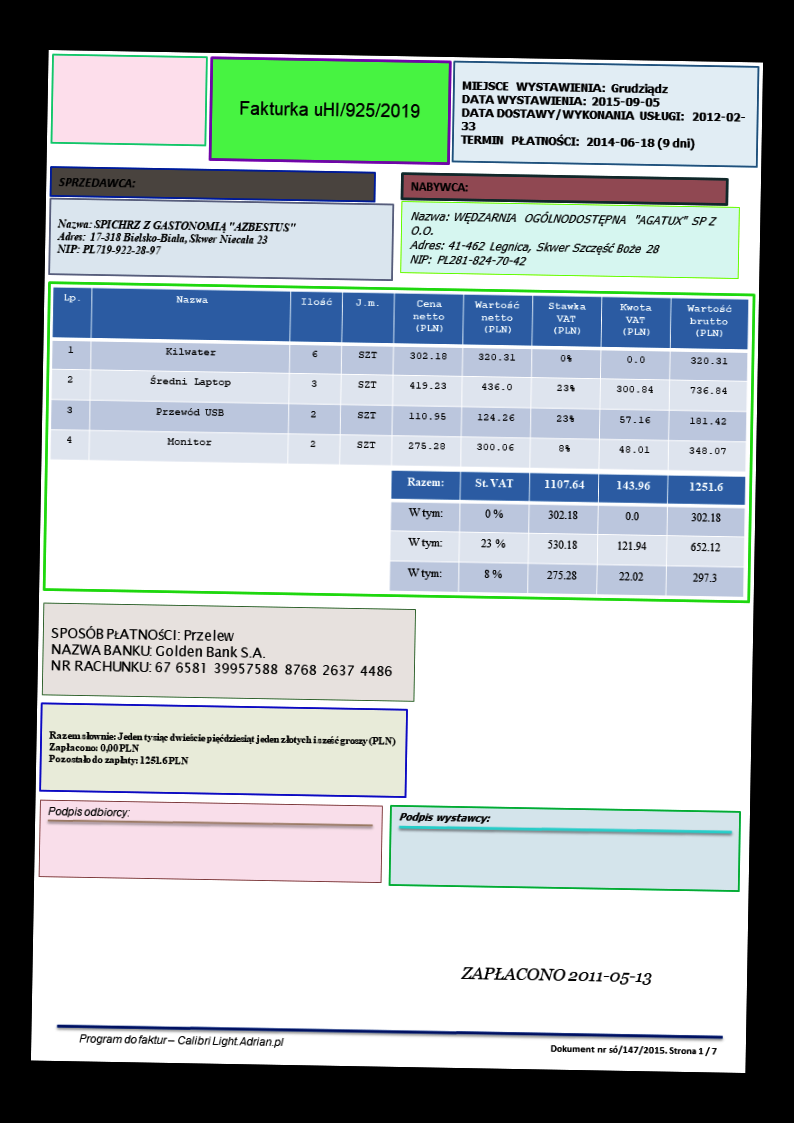Table: (49, 285, 749, 474), (388, 469, 747, 600)
TextBox: (458, 77, 749, 153), (407, 207, 720, 273), (48, 623, 395, 682), (46, 727, 398, 771), (55, 215, 299, 260), (459, 962, 653, 989), (236, 97, 423, 122), (77, 1029, 286, 1051), (549, 1041, 718, 1059), (397, 808, 492, 828), (45, 802, 131, 821), (55, 173, 138, 191), (408, 178, 469, 196)
